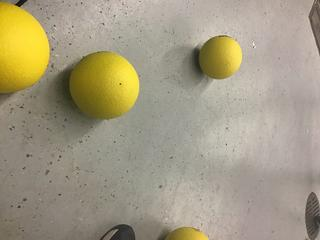power_cell: (71, 61, 136, 116), (201, 40, 241, 77)
